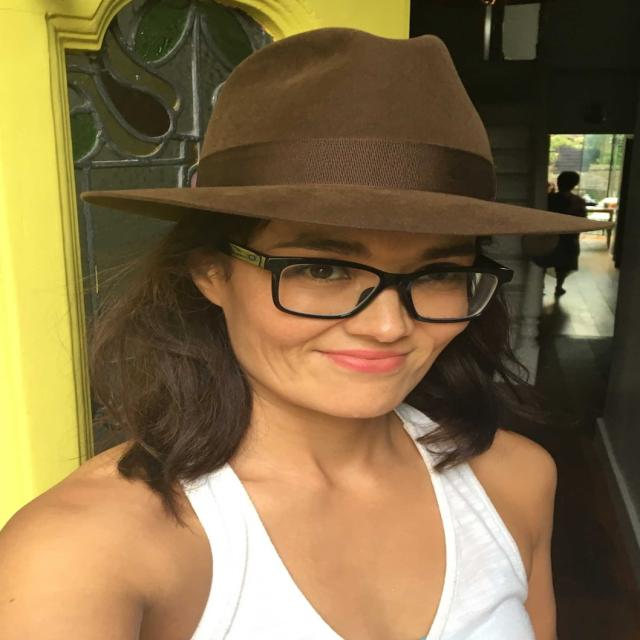hat: (83, 25, 615, 421)
